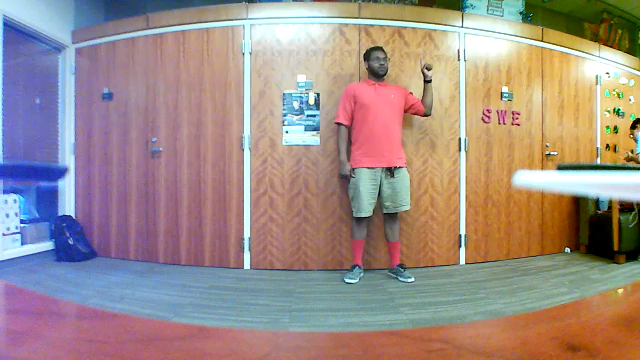up: (419, 55, 437, 80)
